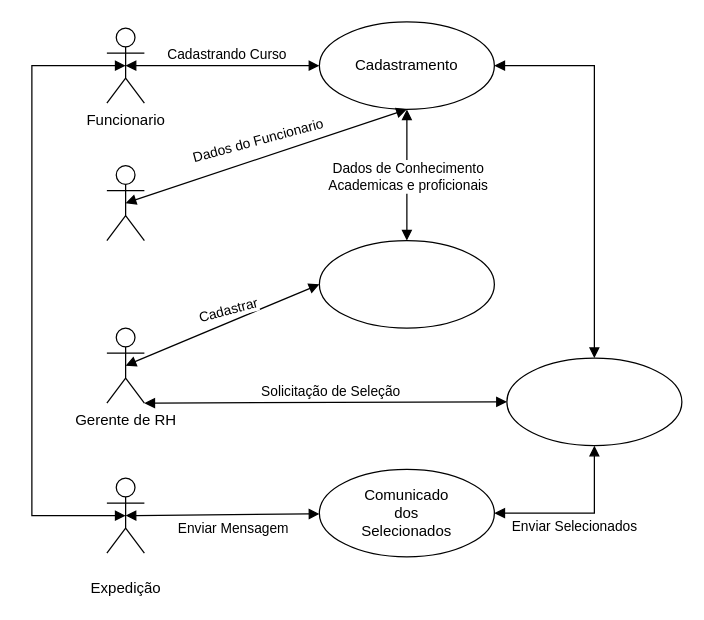
This 704x620 diagram has some shape labels left out. The shapes that lost their labels are listed below. From the top down, each one's box as (x1, y1, x2, y2) in pixels, then its label:
(106, 164, 144, 241): Sistema de RH
(318, 239, 494, 328): Critérios para a seleção
(506, 357, 682, 446): Seleção dos Funcionários
